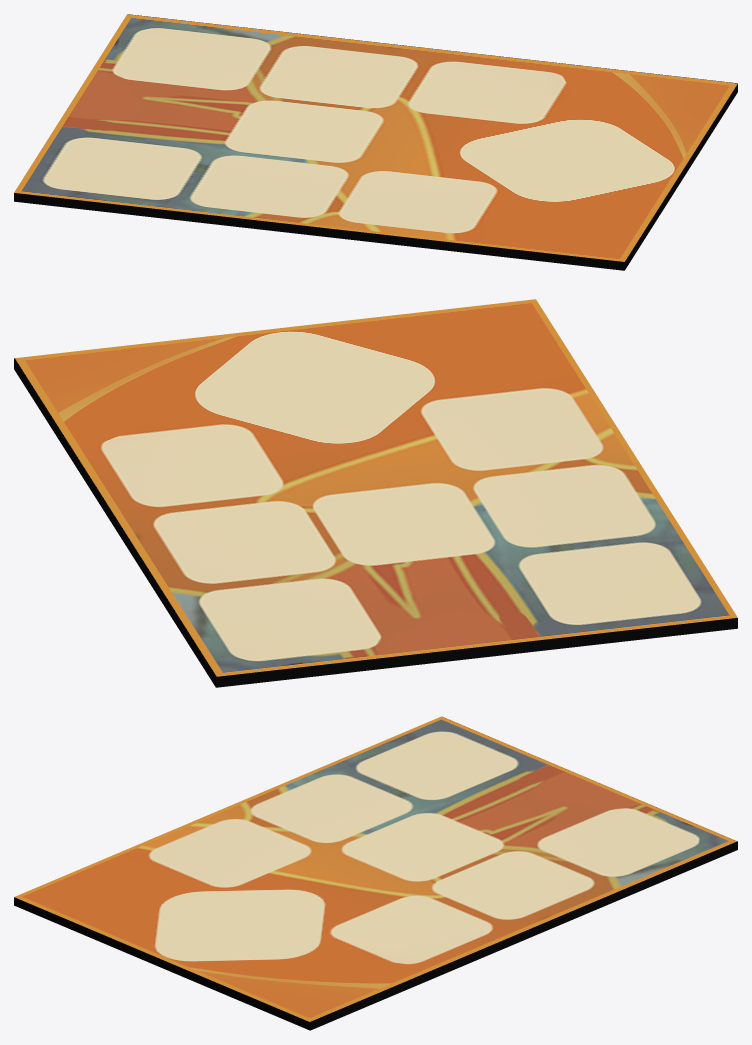
Rendered from sigil_slot_3.glb.
The picture shows the model from 3 angles, top to bottom: view 1: azimuth 30°, elevation 25°; view 2: azimuth 150°, elevation 25°; view 3: azimuth 270°, elevation 25°; orthographic projection. The views are drawn at different scales.
Visible parts, largest first — view 1: Sigil_slot_3; view 2: Sigil_slot_3; view 3: Sigil_slot_3.
Boxes of the visible parts, box(x1,y1,x2,y2) form: Sigil_slot_3: box(14, 14, 737, 270); Sigil_slot_3: box(14, 299, 737, 687); Sigil_slot_3: box(14, 716, 737, 1030).
Bounding box in the file's own units: 4.34 × 0.0557 × 4.34.
Materials: 1 (1 with a texture image).
